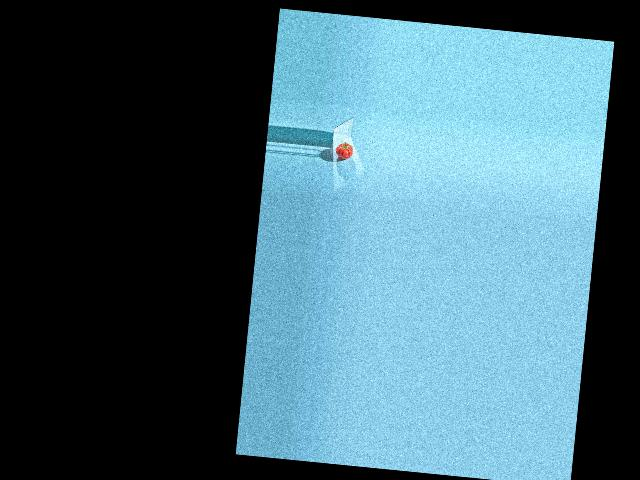tomato: (334, 142, 353, 159)
